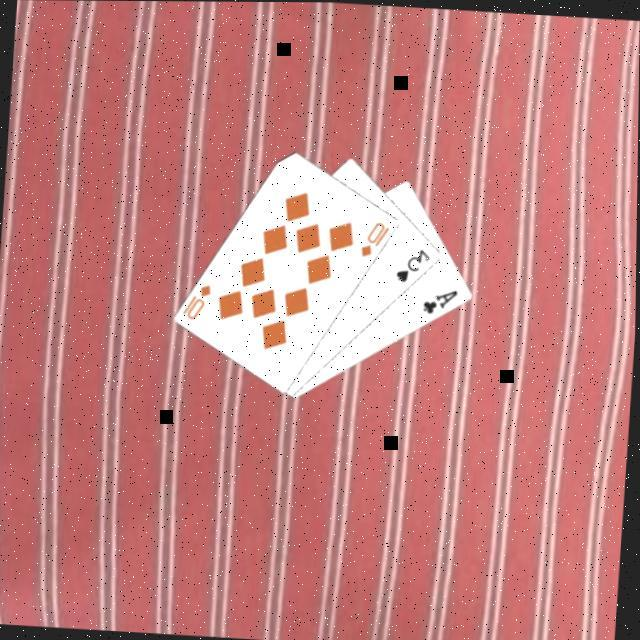10D: (181, 281, 218, 325), (359, 219, 395, 263)
3S: (394, 246, 434, 288)
AC: (420, 286, 462, 320)
